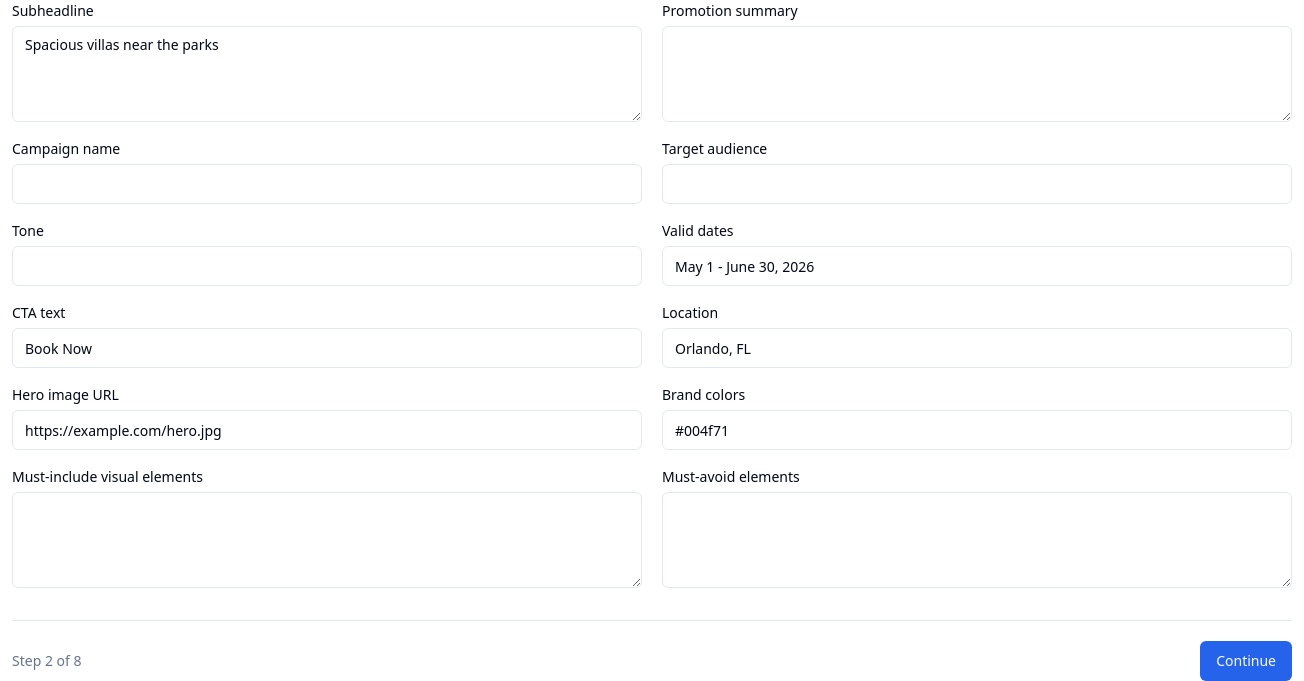
Test: BriefForm › flags empty critical fields and blocks continue
(page scrolled)
What coordinates should you click on to do the following:
click the button "Continue"
I would click on:
 (1246, 661)
Its box is [1200, 641, 1292, 680].
(page scrolled)
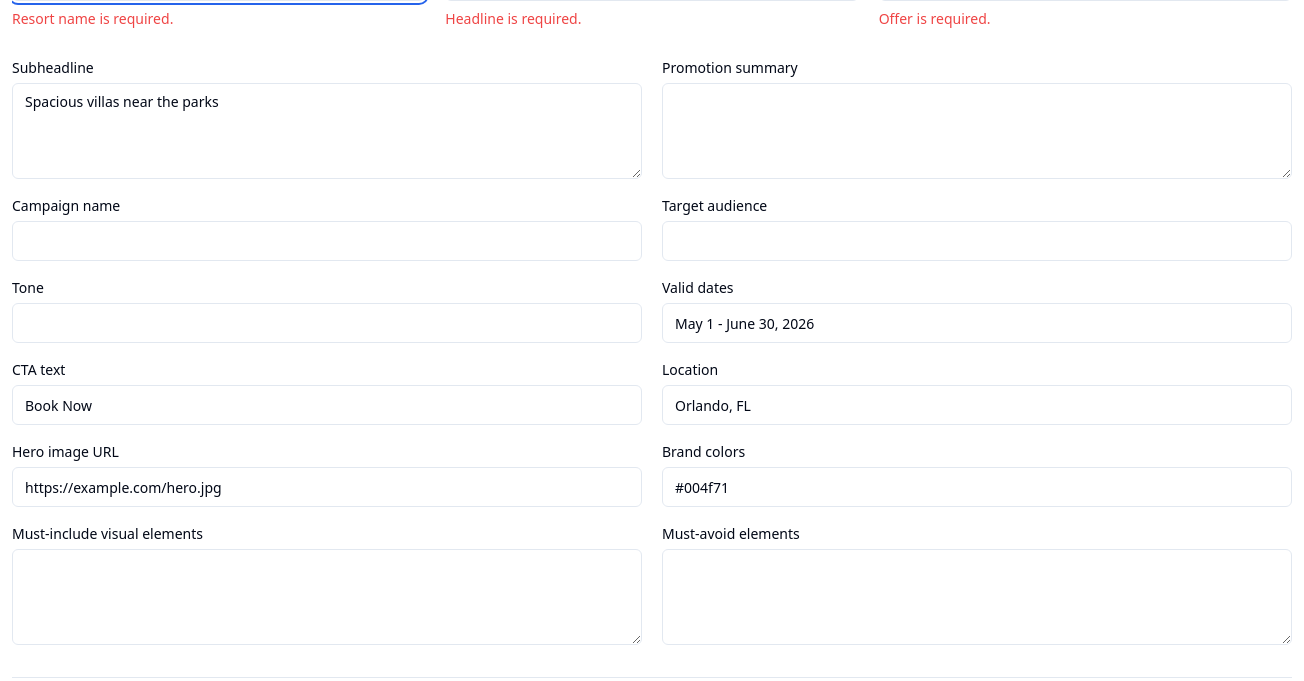
Expected: the text "Resort name is required." is shown, [12, 9, 173, 28]
Expected: the text "Headline is required." is shown, [445, 9, 581, 28]
Expected: the text "Offer is required." is shown, [879, 9, 991, 28]
